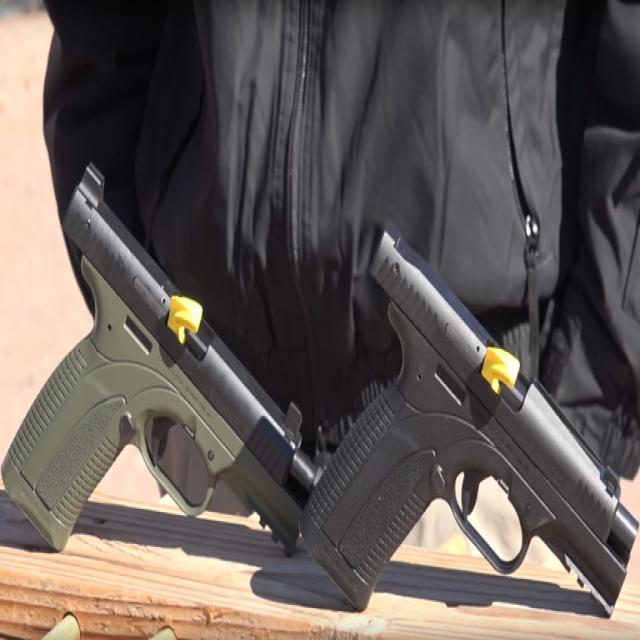Gun: (316, 168, 630, 640), (0, 164, 310, 622)
